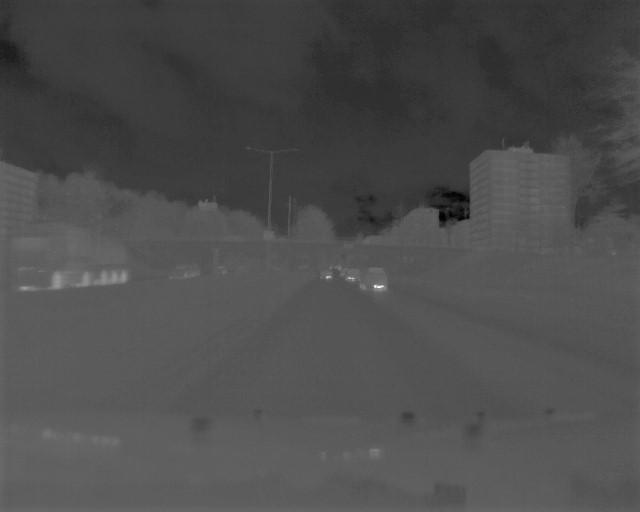car: (9, 224, 131, 290), (354, 268, 390, 292)
